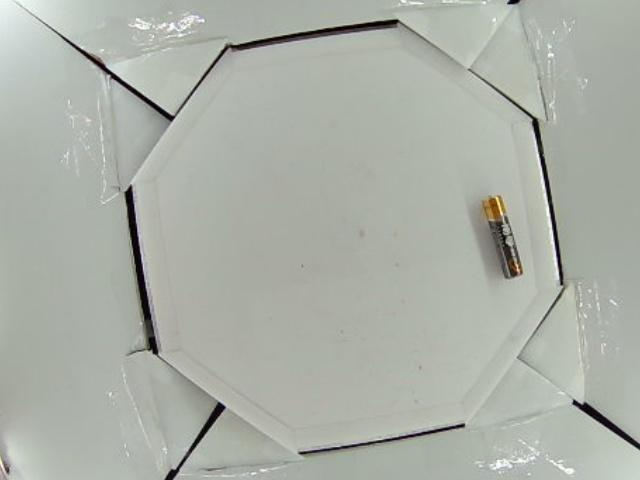Battery: (483, 193, 524, 280)
